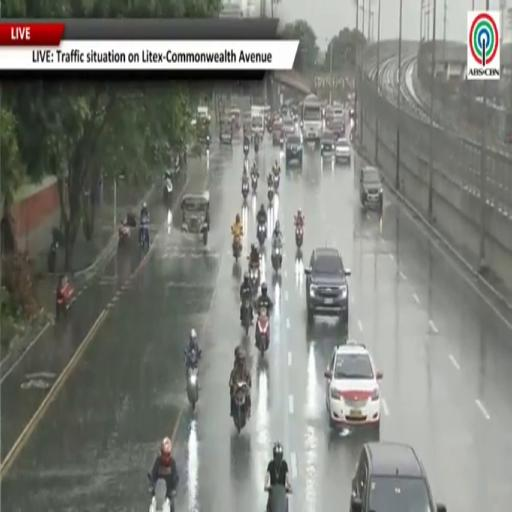car: (350, 442, 446, 511), (325, 341, 382, 439), (305, 248, 350, 325), (360, 167, 383, 212), (285, 134, 302, 166), (335, 138, 351, 163), (321, 131, 335, 158), (220, 117, 232, 145), (330, 118, 345, 139), (272, 119, 283, 146), (283, 118, 296, 136)
motorcycle: (185, 350, 199, 410), (149, 478, 174, 511), (233, 382, 249, 432), (56, 278, 73, 319), (266, 485, 291, 511), (47, 228, 61, 273), (256, 308, 269, 356), (187, 366, 198, 410), (47, 240, 58, 273), (249, 264, 260, 296), (241, 299, 251, 334), (163, 178, 173, 210), (271, 244, 282, 272), (119, 222, 130, 247), (140, 224, 149, 250), (257, 223, 266, 247), (233, 237, 241, 262), (295, 226, 303, 248), (241, 182, 249, 200), (251, 174, 257, 194), (268, 187, 274, 205), (273, 173, 279, 191), (243, 143, 249, 158), (254, 139, 259, 154), (243, 158, 248, 172), (206, 136, 210, 151), (280, 137, 284, 150), (349, 130, 353, 142)
truck: (301, 94, 322, 147), (251, 105, 264, 138)
